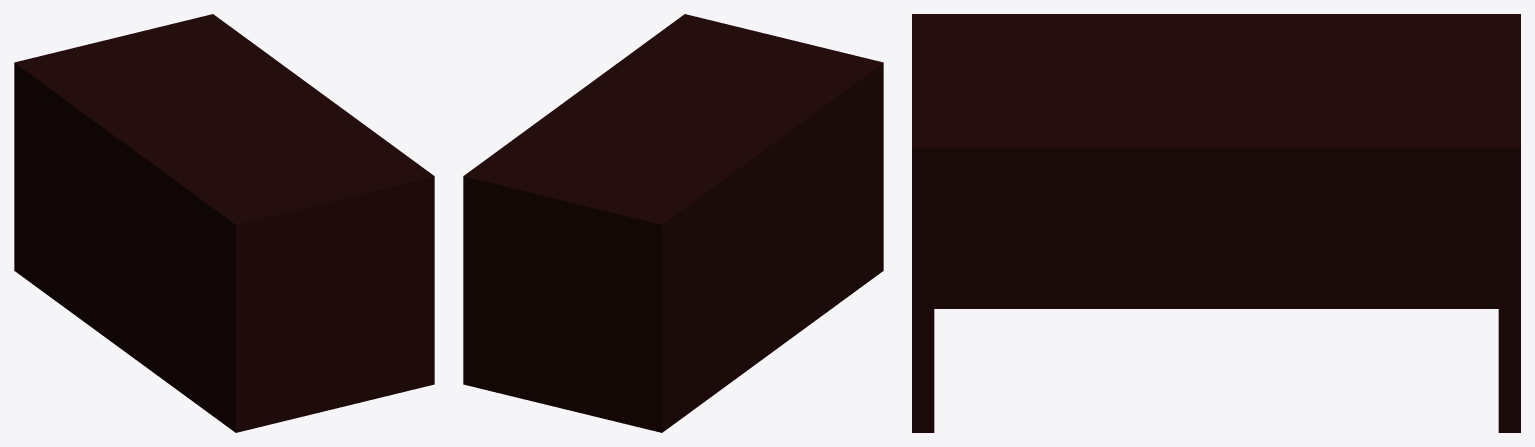
File: bureau.fbx
3 renders of one model, left to right at view 1: azimuth 30°, elevation 25°; view 2: azimuth 150°, elevation 25°; view 3: azimuth 270°, elevation 25°, orthographic. The views are drawn at different scales.
Visible parts, largest first — view 1: bureau; view 2: bureau; view 3: bureau.
Part boxes in pixels (left/top/right/bottom): bureau: left=14, top=14, right=434, bottom=432; bureau: left=463, top=14, right=883, bottom=432; bureau: left=912, top=14, right=1520, bottom=432.
Bounding box in the file's own units: 193 × 100 × 100.
